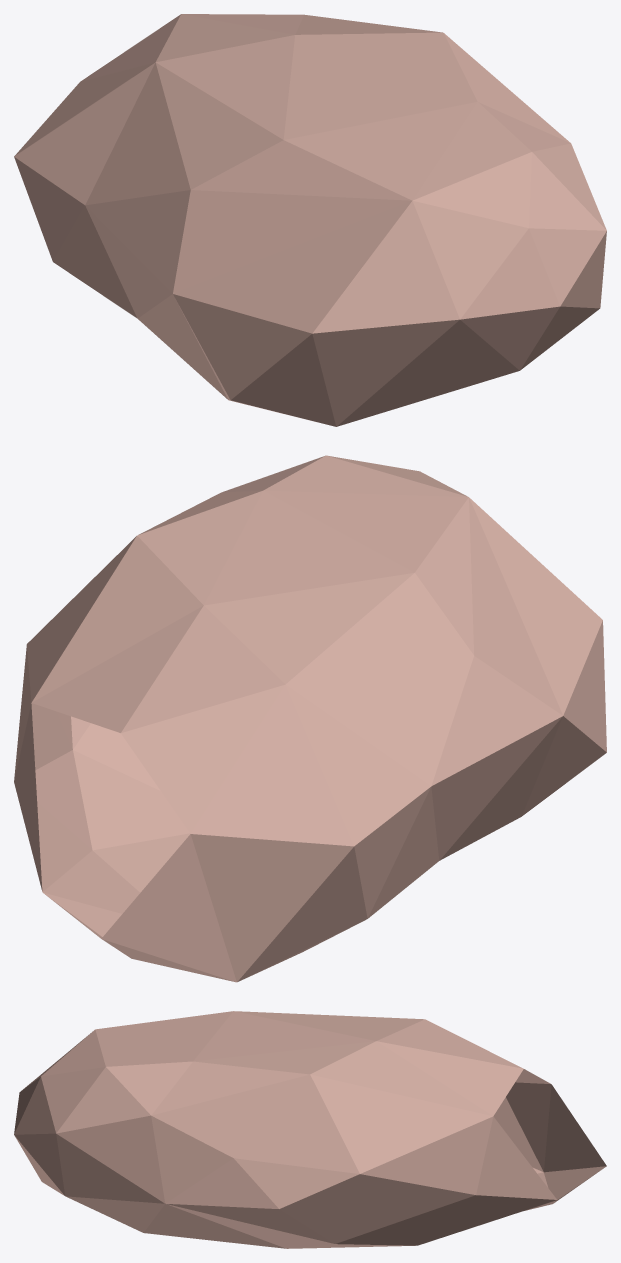
File: stone_009.fbx
3 renders of one model, top to bottom at view 1: azimuth 30°, elevation 25°; view 2: azimuth 150°, elevation 25°; view 3: azimuth 270°, elevation 25°, orthographic. The views are drawn at different scales.
Parts seen in each view (by area): view 1: stone_009; view 2: stone_009; view 3: stone_009.
Part boxes in pixels (x1,y1,x2,y2): stone_009: [14, 14, 606, 426]; stone_009: [14, 455, 606, 982]; stone_009: [14, 1011, 606, 1248].
Bounding box in the file's own units: 490 × 778 × 303.
